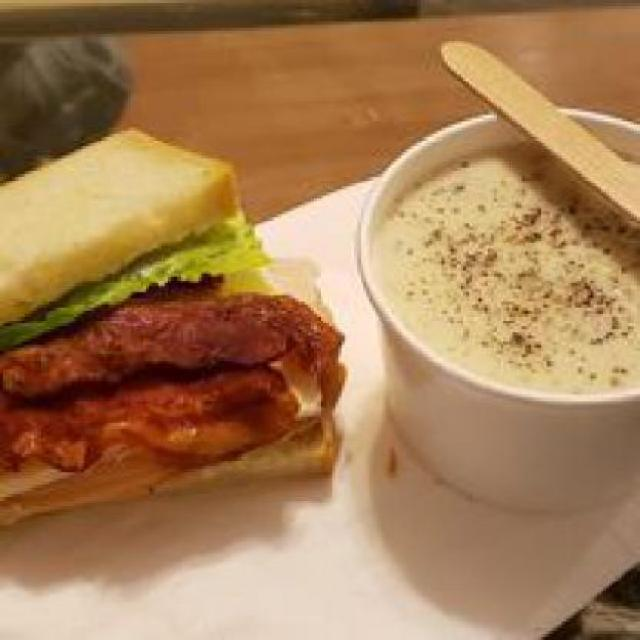clam chowder: (348, 77, 637, 463)
